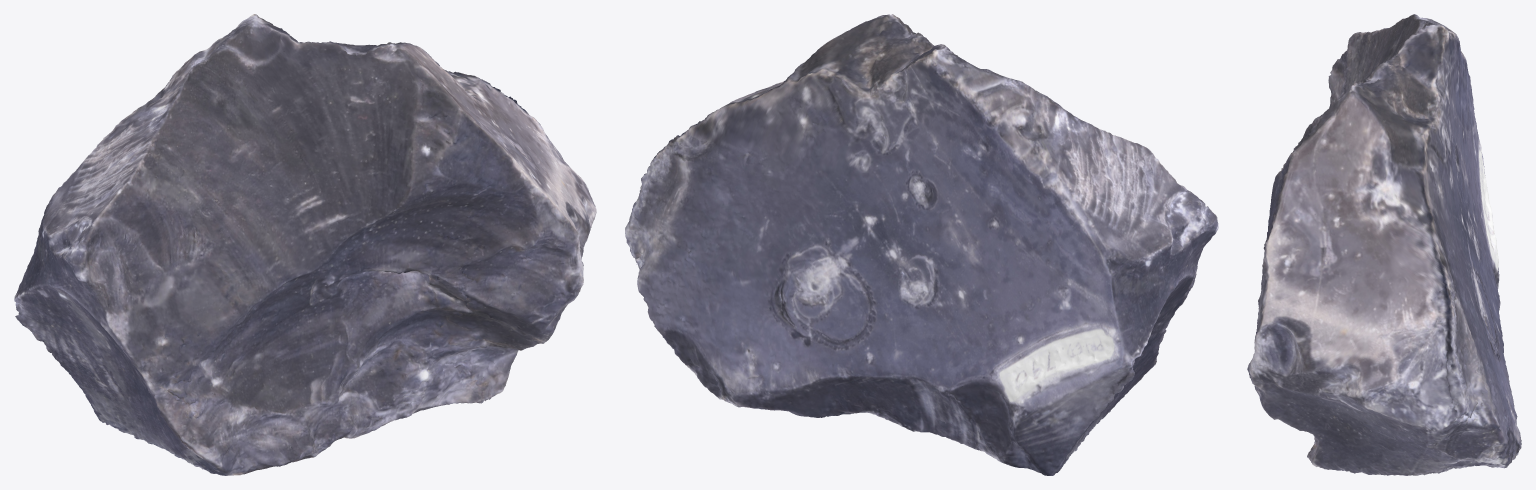
The model's file is obsidian.glb.
3 views of the same model, side by side, from view 1: azimuth 30°, elevation 25°; view 2: azimuth 150°, elevation 25°; view 3: azimuth 270°, elevation 25° (orthographic). The views are drawn at different scales.
Parts seen in each view (by area): view 1: Object_2, Object_3, Object_4; view 2: Object_2, Object_3, Object_4; view 3: Object_3, Object_4, Object_2.
Boxes of the visible parts, x1=… form: Object_2: x1=14, y1=14, x2=523, y2=453; Object_3: x1=72, y1=42, x2=590, y2=474; Object_4: x1=89, y1=17, x2=596, y2=475; Object_2: x1=643, y1=27, x2=1218, y2=472; Object_3: x1=625, y1=14, x2=1177, y2=452; Object_4: x1=625, y1=25, x2=1159, y2=475; Object_3: x1=1247, y1=14, x2=1521, y2=475; Object_4: x1=1250, y1=17, x2=1518, y2=475; Object_2: x1=1271, y1=16, x2=1521, y2=464.
Size of the model in its own units: 7.21 by 4.91 by 3.3.
Materials: 1 (1 with a texture image).
